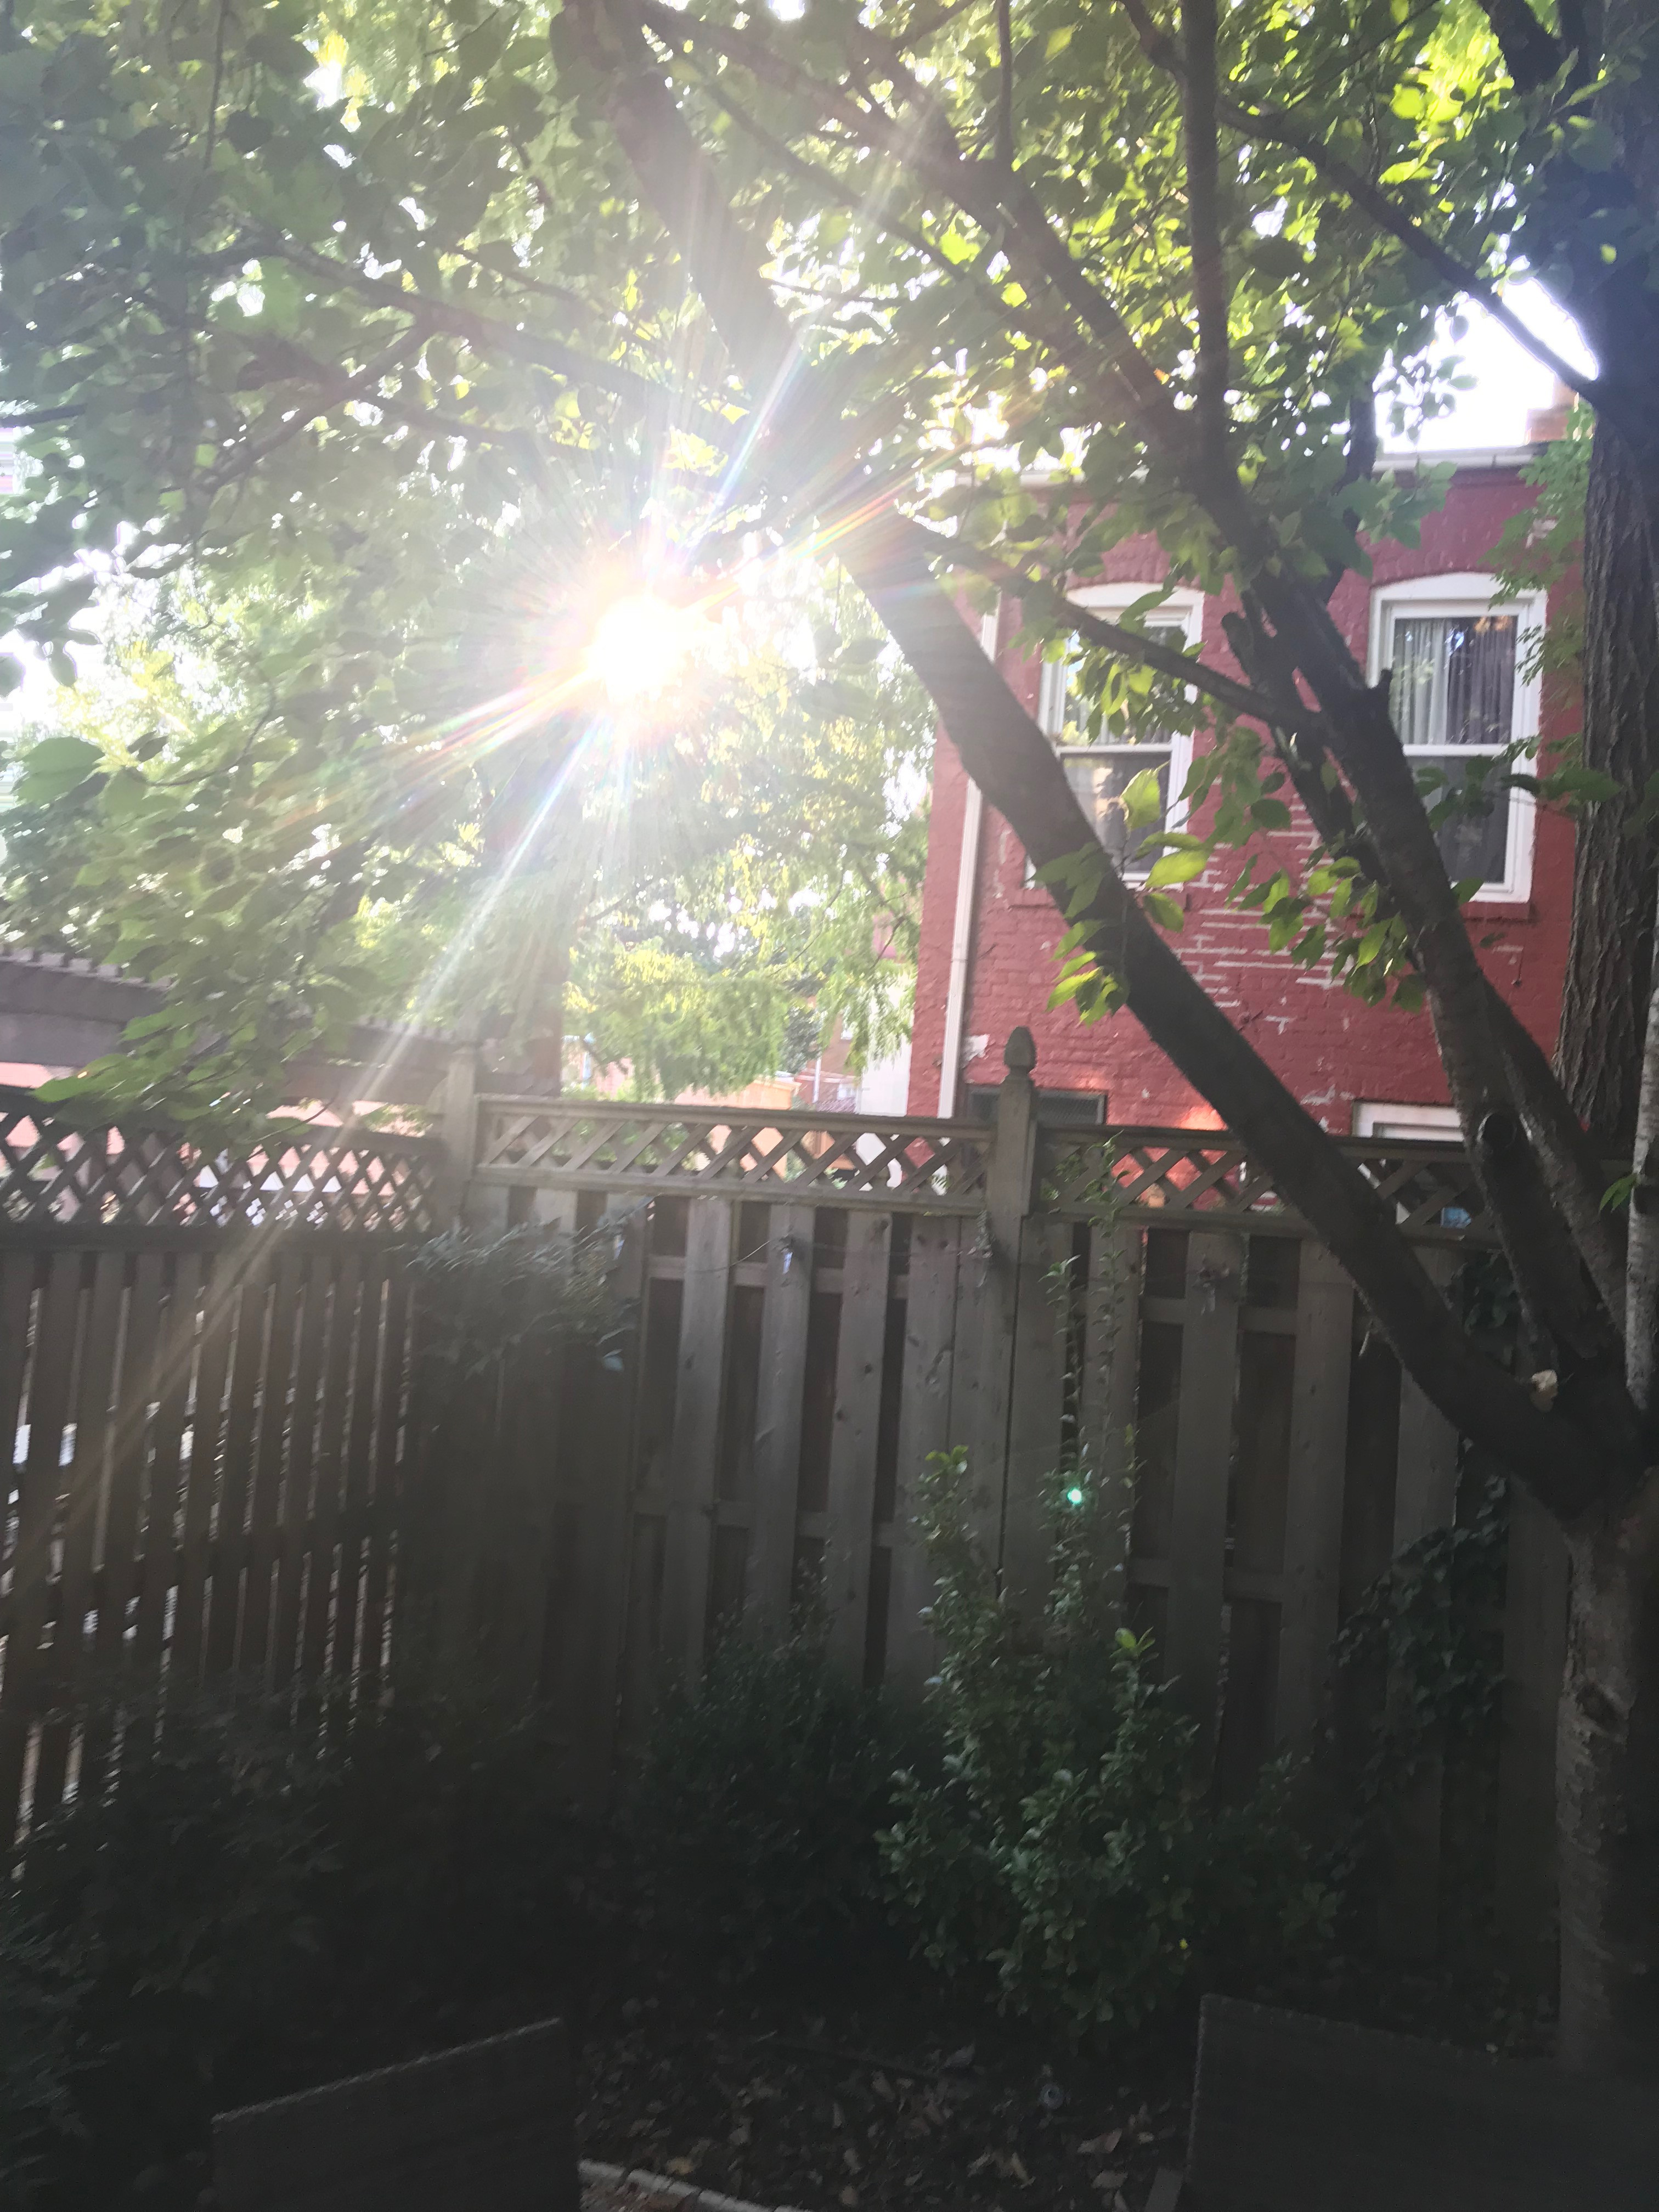flare: (1066, 1487, 1086, 1507)
